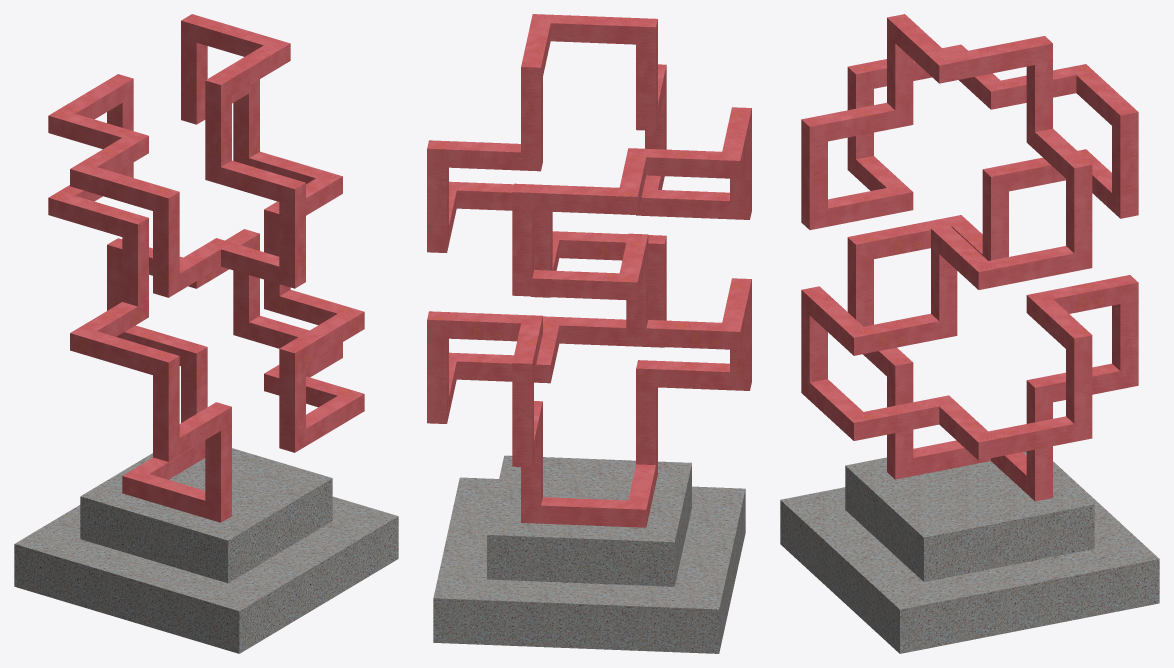
The model's file is Sculpture.fbx.
The picture shows the model from 3 angles, left to right: view 1: azimuth 30°, elevation 25°; view 2: azimuth 150°, elevation 25°; view 3: azimuth 270°, elevation 25°; orthographic projection. The views are drawn at different scales.
Parts seen in each view (by area): view 1: Group1, Group2; view 2: Group1, Group2; view 3: Group1, Group2.
Boxes of the visible parts, left/top/right/bottom form: Group1: left=48, top=14, right=364, bottom=522; Group2: left=14, top=448, right=398, bottom=653; Group1: left=427, top=14, right=751, bottom=527; Group2: left=433, top=455, right=745, bottom=653; Group1: left=801, top=14, right=1138, bottom=501; Group2: left=780, top=451, right=1159, bottom=653.
Size of the model in its own units: 4.76 by 7.52 by 4.76.
